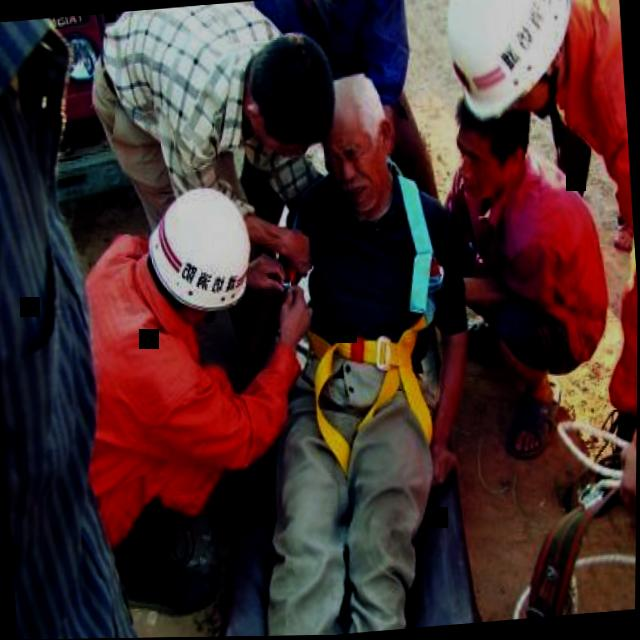Fall-Detected: (221, 48, 494, 637)
